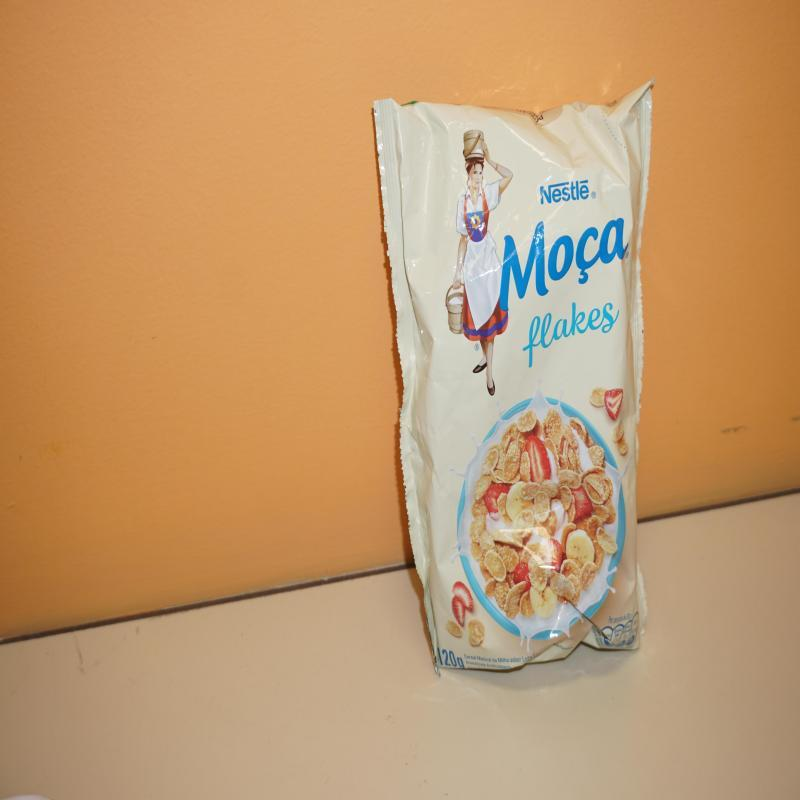CornFlakes: (371, 83, 655, 678)
